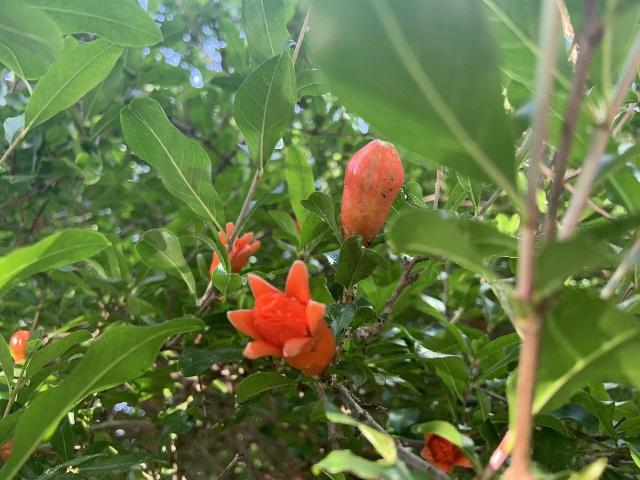bud: (340, 138, 403, 245), (9, 330, 30, 363)
flower: (228, 261, 335, 376), (210, 222, 260, 276), (419, 428, 473, 473)
